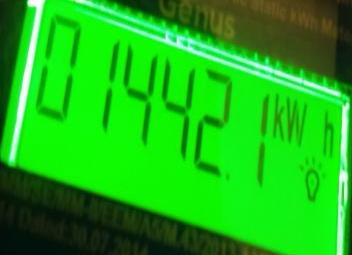.: (273, 93, 339, 159)
0: (224, 170, 233, 185)
1: (34, 12, 81, 126)
2: (254, 89, 273, 193), (103, 38, 122, 138)
3: (192, 68, 234, 176)
5: (157, 57, 200, 168), (117, 44, 162, 149)
